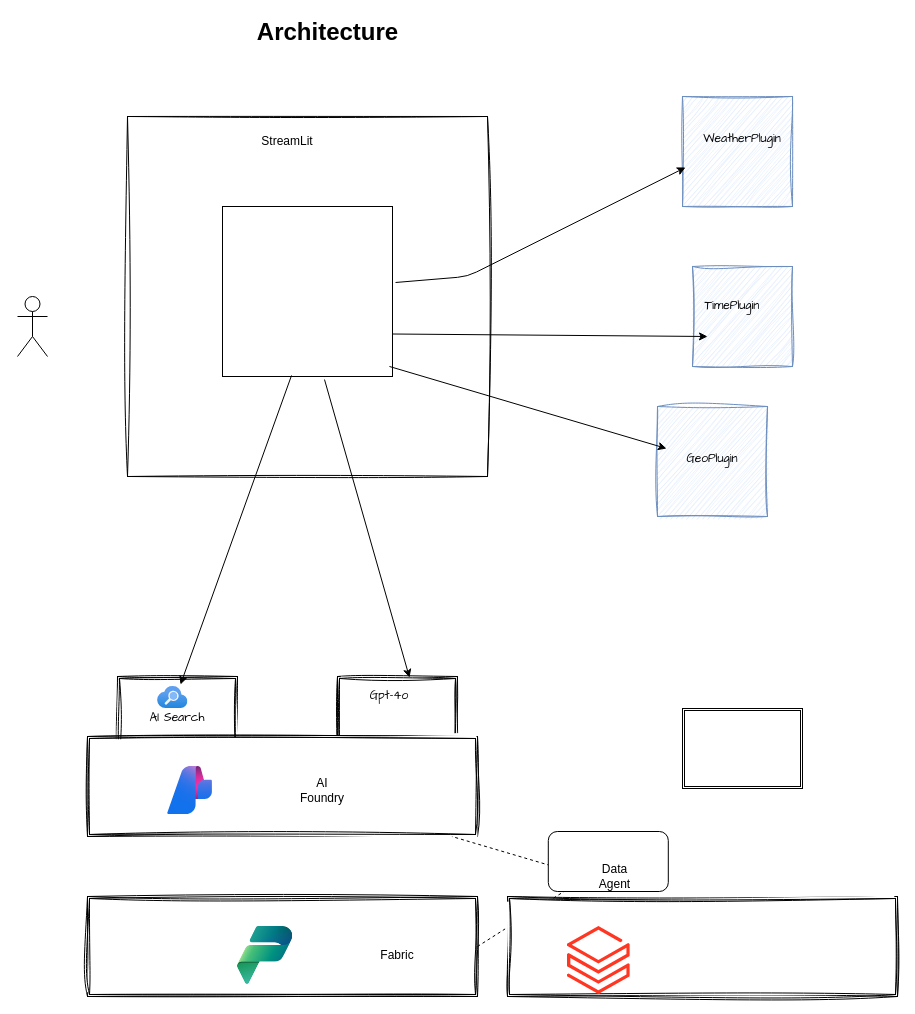
This 915x1014 diagram has some shape labels left out. Here are the shapes that lost their labels. From the top down, the box of each, then its label:
(222, 206, 392, 376): Semantic Kernel
(16, 296, 48, 356): Actor
